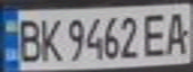2: (118, 11, 142, 60)
4: (84, 14, 106, 61)
6: (103, 12, 124, 61)
9: (63, 14, 87, 62)
A: (163, 7, 193, 56)
B: (12, 15, 45, 63)
E: (139, 9, 172, 57)
K: (36, 14, 63, 63)
